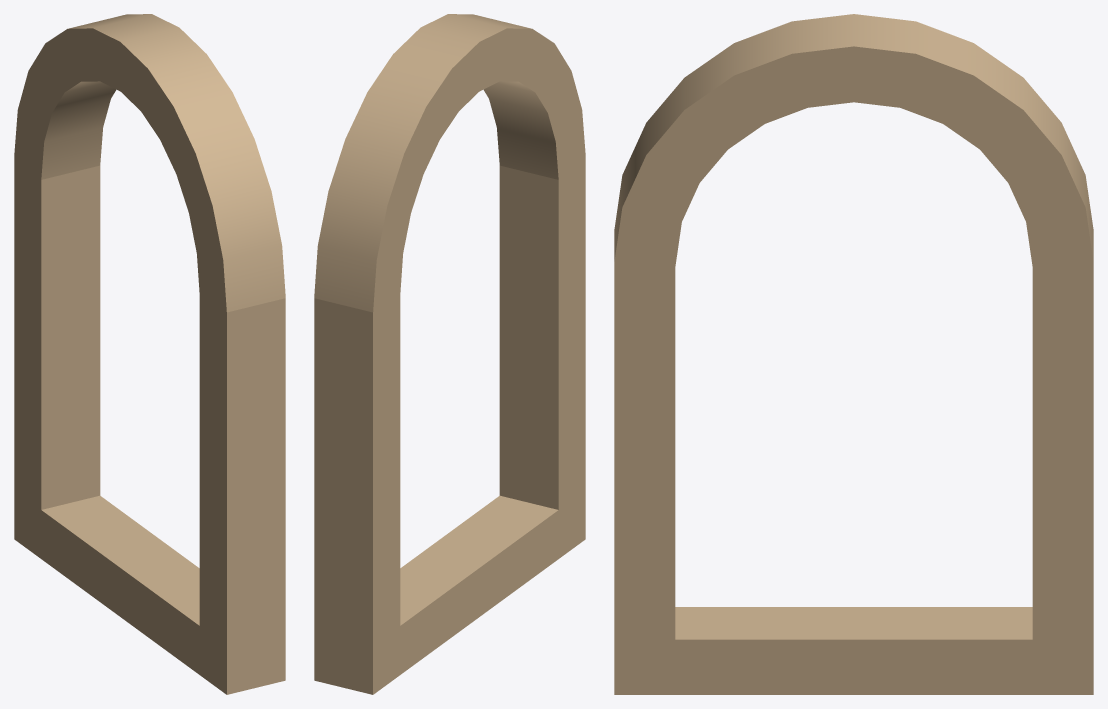
The model's file is detail_022.glb.
3 views of the same model, side by side, from view 1: azimuth 30°, elevation 25°; view 2: azimuth 150°, elevation 25°; view 3: azimuth 270°, elevation 25° (orthographic). The views are drawn at different scales.
Visible parts, largest first — view 1: detail_022; view 2: detail_022; view 3: detail_022.
Boxes of the visible parts, x1=… form: detail_022: x1=14, y1=14, x2=285, y2=694; detail_022: x1=314, y1=14, x2=585, y2=694; detail_022: x1=614, y1=14, x2=1093, y2=694.
Bounding box in the file's own units: 0.05 × 0.4662 × 0.3125.
